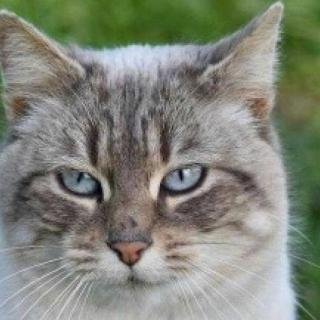cat: (0, 6, 295, 308)
nose: (98, 208, 161, 268)
